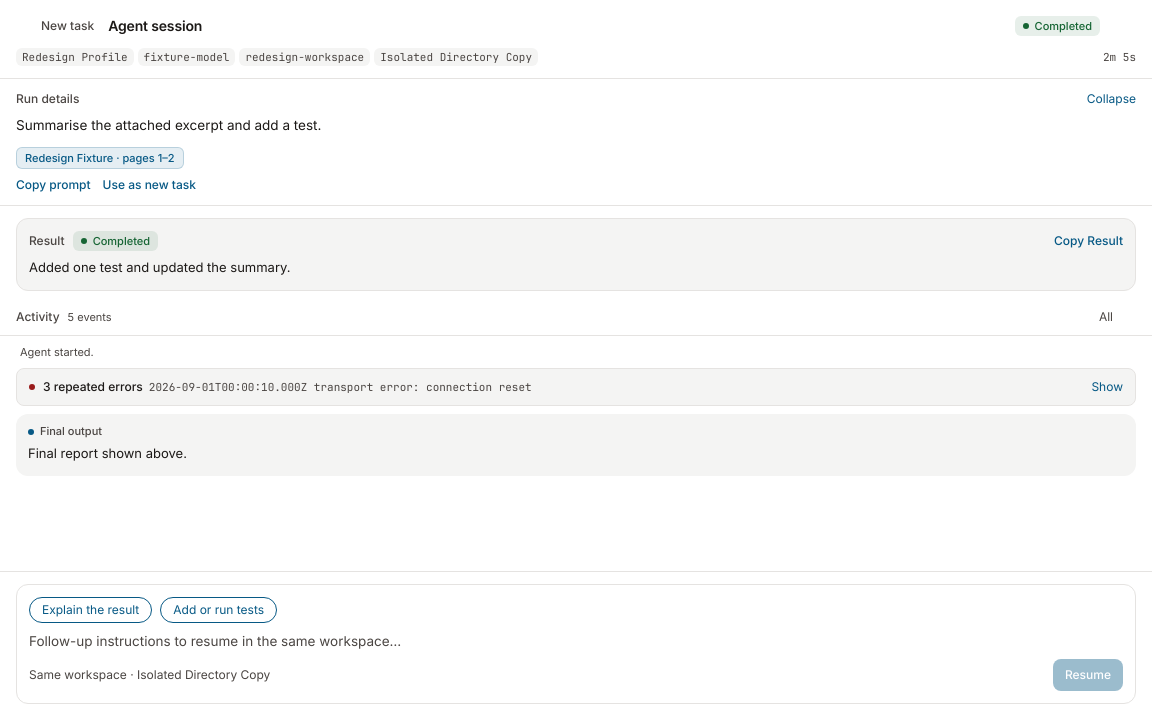
Test case: 6b — run view › withholds Stop while a finished session is being resumed
Expected: the element with test id "agent-activity-list" is shown, [16,344,1136,476]
Type "Also update the README." into the text box named "Follow-up prompt" at (576, 641), box [29,631,1123,651]
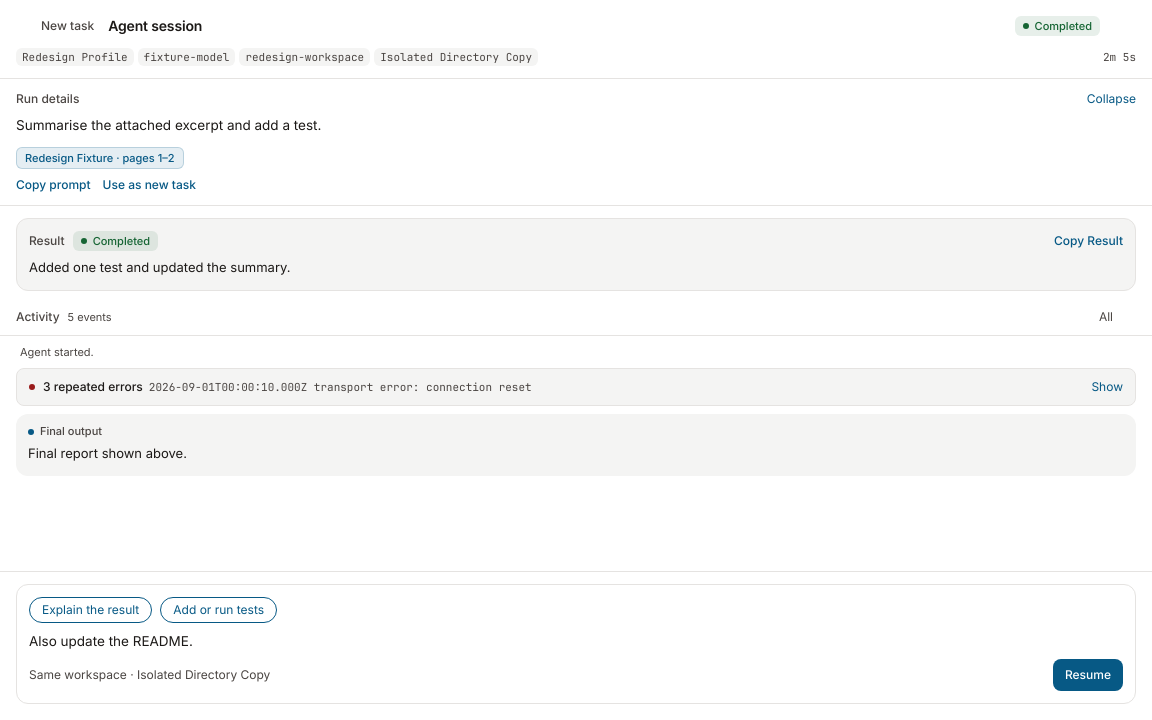
Click the button with test id "agent-resume-button" at (1088, 675), box [1053,659,1123,691]
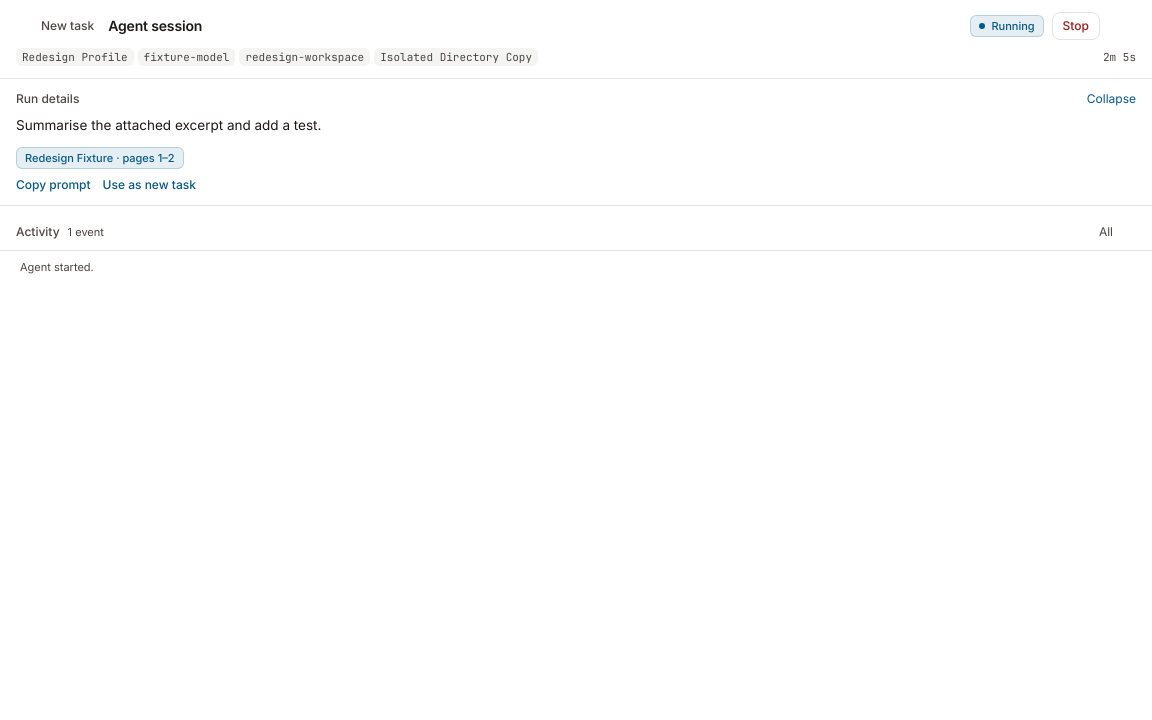
Expected: the button with test id "agent-stop-button" is enabled, [1052,12,1100,40]
